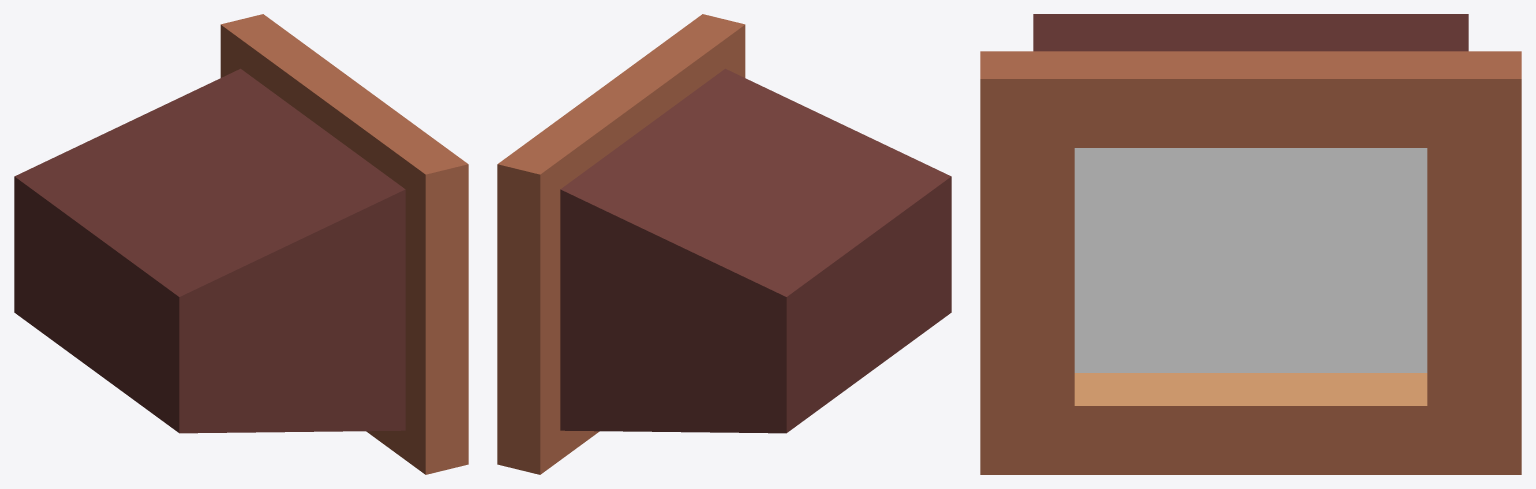
The model's file is projector.fbx.
3 renders of one model, left to right at view 1: azimuth 30°, elevation 25°; view 2: azimuth 150°, elevation 25°; view 3: azimuth 270°, elevation 25°, orthographic. The views are drawn at different scales.
Parts seen in each view (by area): view 1: Cube.009; view 2: Cube.009; view 3: Cube.009.
Part boxes in pixels (box(x1,y1,x2,y2)): Cube.009: box(14, 14, 468, 474); Cube.009: box(497, 14, 951, 474); Cube.009: box(980, 14, 1521, 474).
Size of the model in its own units: 188 by 201 by 249.
